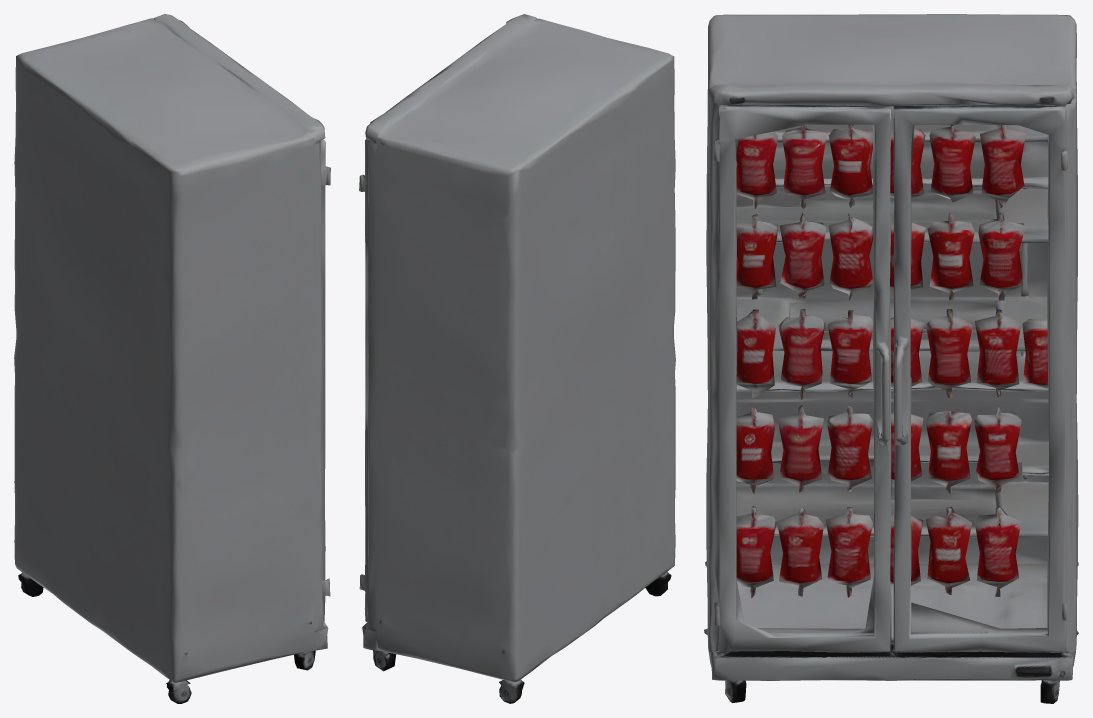
The model's file is blood_fridge.glb.
3 renders of one model, left to right at view 1: azimuth 30°, elevation 25°; view 2: azimuth 150°, elevation 25°; view 3: azimuth 270°, elevation 25°, orthographic. The views are drawn at different scales.
Visible parts, largest first — view 1: tripo_node_47ae74f7-532c-472d-a75f-26fb1229c038; view 2: tripo_node_47ae74f7-532c-472d-a75f-26fb1229c038; view 3: tripo_node_47ae74f7-532c-472d-a75f-26fb1229c038.
Boxes of the visible parts, x1,y1,x2,y2 form: tripo_node_47ae74f7-532c-472d-a75f-26fb1229c038: (14,14,330,703); tripo_node_47ae74f7-532c-472d-a75f-26fb1229c038: (359,14,675,703); tripo_node_47ae74f7-532c-472d-a75f-26fb1229c038: (704,14,1078,703).
Bounding box in the file's own units: 0.3338 × 1 × 0.5489.
Materials: 1 (1 with a texture image).
